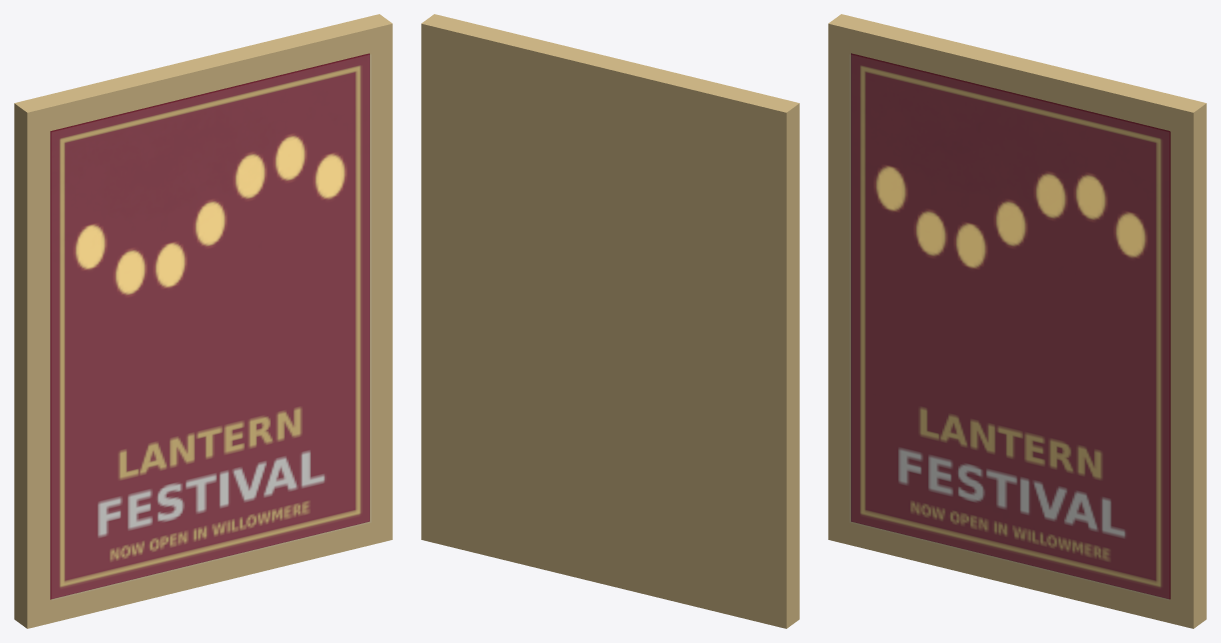
The model's file is SM_QUE_PosterCase_3.fbx.
The picture shows the model from 3 angles, left to right: view 1: azimuth 30°, elevation 25°; view 2: azimuth 150°, elevation 25°; view 3: azimuth 330°, elevation 25°; orthographic projection.
Parts seen in each view (by area): view 1: SM_QUE_PosterCase_3; view 2: SM_QUE_PosterCase_3; view 3: SM_QUE_PosterCase_3.
Part boxes in pixels (x1,y1,x2,y2): SM_QUE_PosterCase_3: (14, 14, 392, 628); SM_QUE_PosterCase_3: (421, 14, 799, 628); SM_QUE_PosterCase_3: (828, 14, 1206, 628).
Size of the model in its own units: 0.8 by 1.08 by 0.056.
